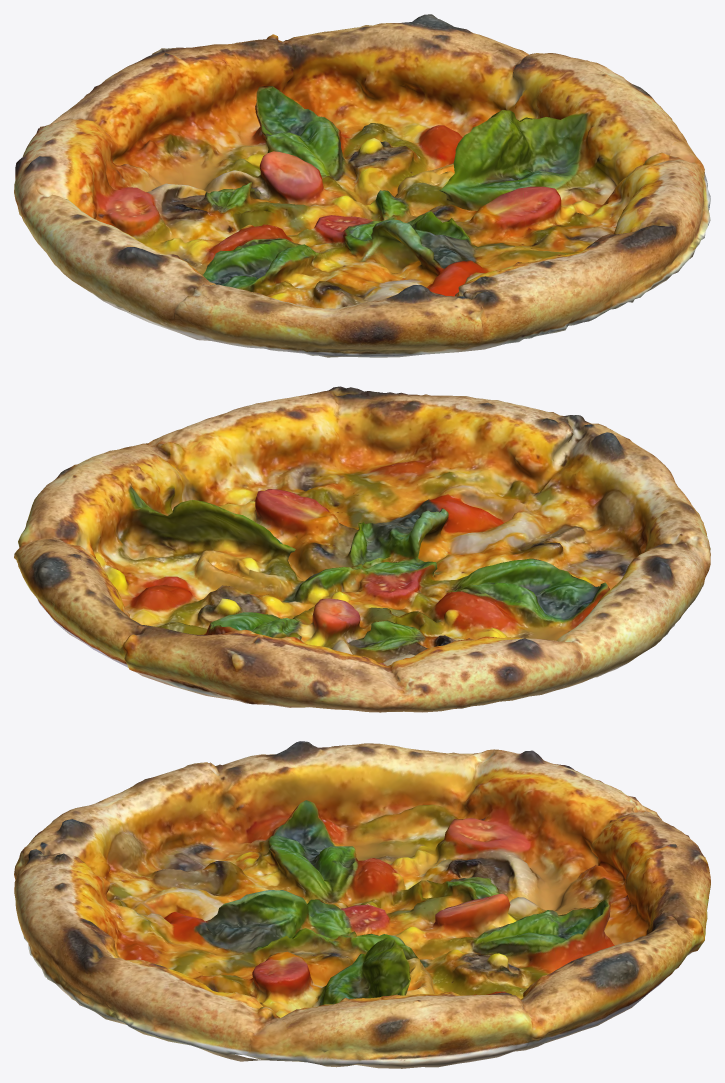
File: vegetarian 3.glb
3 views of the same model, one above another, from view 1: azimuth 30°, elevation 25°; view 2: azimuth 150°, elevation 25°; view 3: azimuth 270°, elevation 25° (orthographic).
Parts seen in each view (by area): view 1: ObjectCapture; view 2: ObjectCapture; view 3: ObjectCapture.
Part boxes in pixels (x1,y1,x2,y2): ObjectCapture: (14,14,710,357); ObjectCapture: (14,386,710,712); ObjectCapture: (14,741,710,1068).
Bounding box in the file's own units: 0.2833 × 0.0406 × 0.2854.
1 material, 1 textured.
